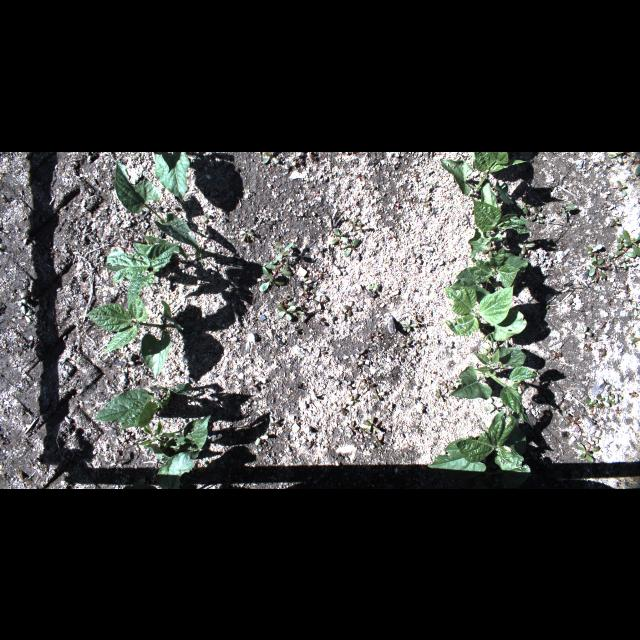crop: (82, 290, 184, 382), (427, 409, 531, 486), (114, 160, 200, 250), (450, 346, 540, 428), (103, 234, 189, 308), (136, 414, 210, 488), (444, 285, 526, 347), (439, 151, 526, 209), (94, 383, 192, 433), (451, 246, 527, 302), (470, 196, 532, 258), (153, 151, 190, 201), (121, 480, 157, 488)
weed: (259, 242, 293, 290), (608, 228, 640, 268), (278, 296, 304, 320), (584, 394, 610, 418), (184, 247, 210, 270), (578, 438, 600, 462), (586, 243, 608, 263), (362, 416, 382, 434), (557, 202, 577, 220), (588, 258, 606, 278), (339, 237, 358, 255), (558, 409, 582, 423), (331, 226, 349, 244), (516, 195, 534, 213), (342, 300, 358, 320), (484, 400, 504, 416), (518, 236, 534, 256), (630, 151, 640, 175), (239, 228, 255, 242), (254, 431, 268, 445), (360, 378, 374, 392), (402, 318, 416, 332), (612, 180, 626, 194), (530, 205, 544, 219), (576, 326, 592, 338), (482, 240, 494, 256), (261, 152, 279, 162), (372, 388, 384, 402), (290, 151, 302, 165), (349, 218, 361, 232), (311, 294, 321, 310), (608, 152, 624, 162), (606, 395, 622, 405), (344, 422, 356, 434), (441, 381, 453, 393), (298, 282, 308, 296), (550, 348, 562, 359), (482, 346, 492, 359), (269, 416, 281, 426), (314, 315, 326, 325), (412, 251, 422, 263), (609, 215, 621, 225), (349, 392, 357, 406), (436, 388, 444, 402), (631, 301, 639, 315), (630, 337, 640, 347), (343, 379, 353, 389), (316, 346, 326, 356), (354, 348, 364, 358), (596, 344, 606, 354), (400, 339, 412, 347), (621, 283, 629, 295), (368, 282, 378, 290), (374, 329, 382, 339), (290, 326, 300, 334), (422, 195, 430, 205), (603, 262, 613, 270), (612, 282, 620, 292), (600, 320, 606, 328), (630, 392, 638, 398), (426, 284, 430, 294), (536, 220, 544, 222)
